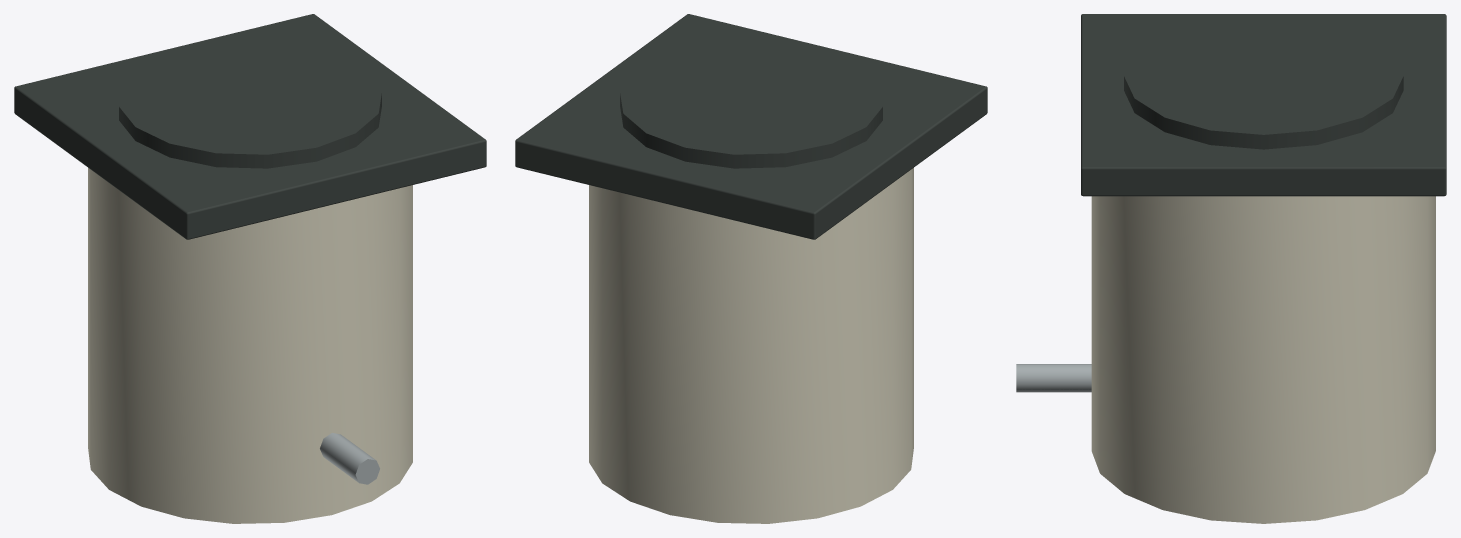
The model's file is water-collection-and-purification-bucket-filter-21260d73__20190.glb.
The picture shows the model from 3 angles, left to right: view 1: azimuth 30°, elevation 25°; view 2: azimuth 150°, elevation 25°; view 3: azimuth 270°, elevation 25°; orthographic projection. The views are drawn at different scales.
Visible parts, largest first — view 1: bucket-filter; view 2: bucket-filter; view 3: bucket-filter.
Boxes of the visible parts, <box> form: bucket-filter: <box>14,14,486,523</box>; bucket-filter: <box>515,14,987,523</box>; bucket-filter: <box>1016,14,1446,523</box>.
Bounding box in the file's own units: 0.34 × 0.385 × 0.4.
